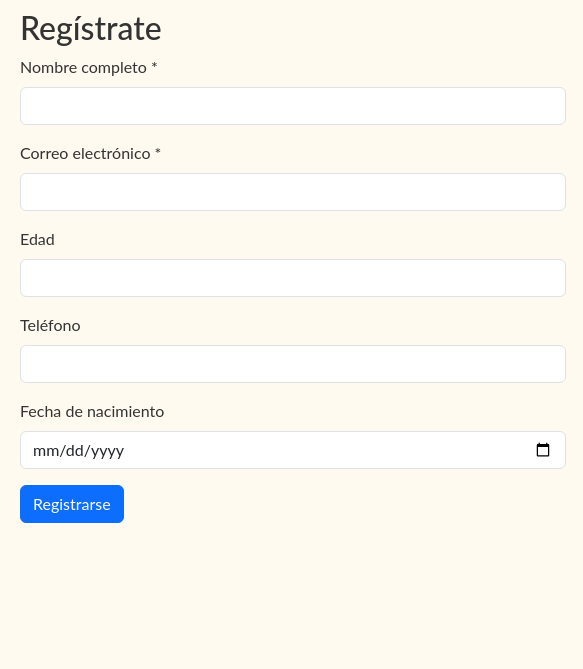
Test: Registro Component › debería mostrar errores de validación si los campos obligatorios están vacíos
Click the button "Registrarse" at [72, 504], box x1=20 y1=485 x2=124 y2=523
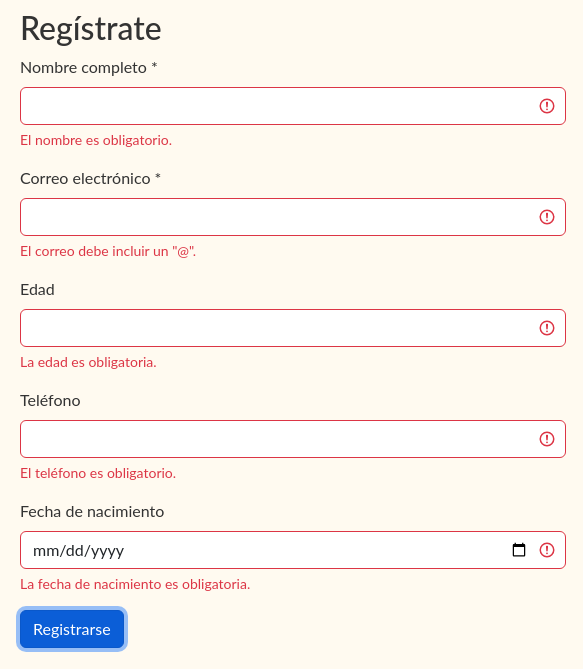
Result: the text "El nombre es obligatorio." is shown at x1=20 y1=131 x2=172 y2=148
Result: the text "El correo debe incluir un \"@\"." is shown at x1=20 y1=242 x2=196 y2=259
Result: the text "La edad es obligatoria." is shown at x1=20 y1=353 x2=157 y2=370
